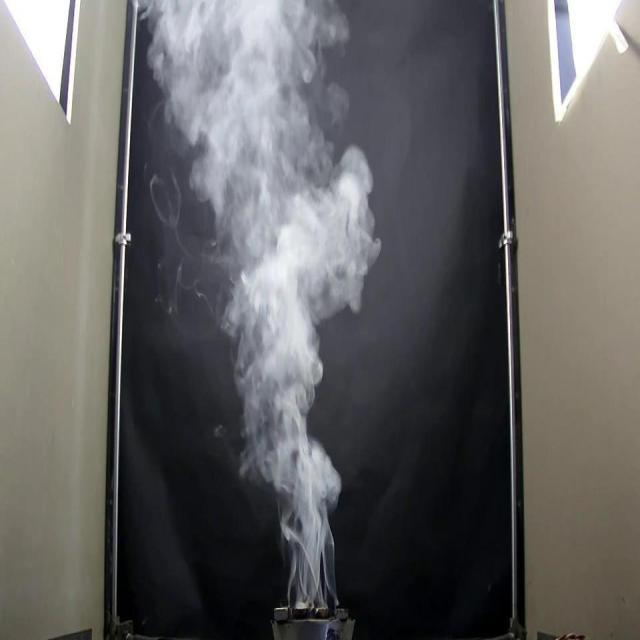Smoke: (136, 1, 382, 614)
